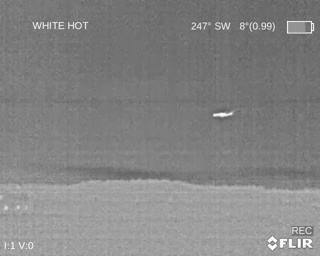AIRPLANE: (211, 109, 234, 118)
